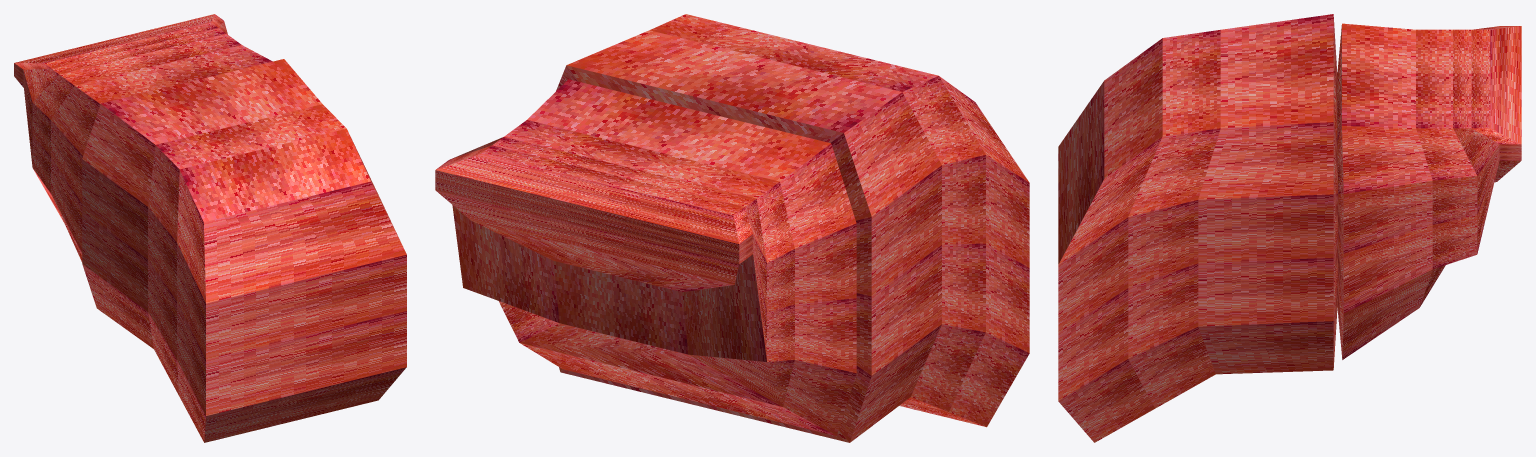
The model's file is liver.fbx.
3 views of the same model, side by side, from view 1: azimuth 30°, elevation 25°; view 2: azimuth 150°, elevation 25°; view 3: azimuth 270°, elevation 25° (orthographic). The views are drawn at different scales.
Visible parts, largest first — view 1: Liver; view 2: Liver; view 3: Liver.
Boxes of the visible parts, box(x1,y1,x2,y2) form: Liver: box(14, 14, 406, 442); Liver: box(435, 14, 1029, 442); Liver: box(1058, 14, 1521, 442).
Size of the model in its own units: 54.86 by 63.77 by 82.8.
